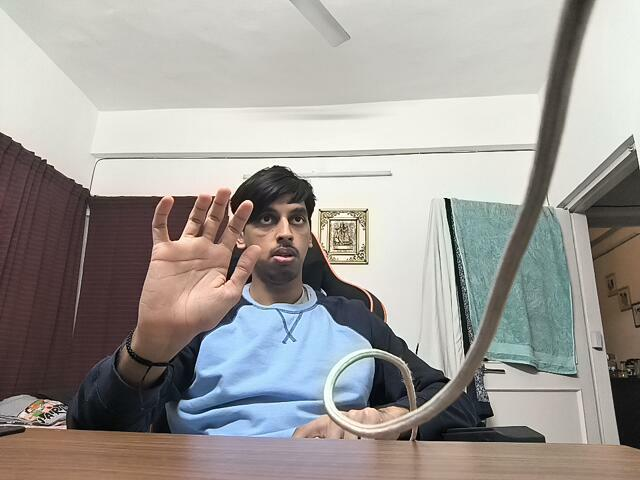STOP: (145, 184, 265, 353)
